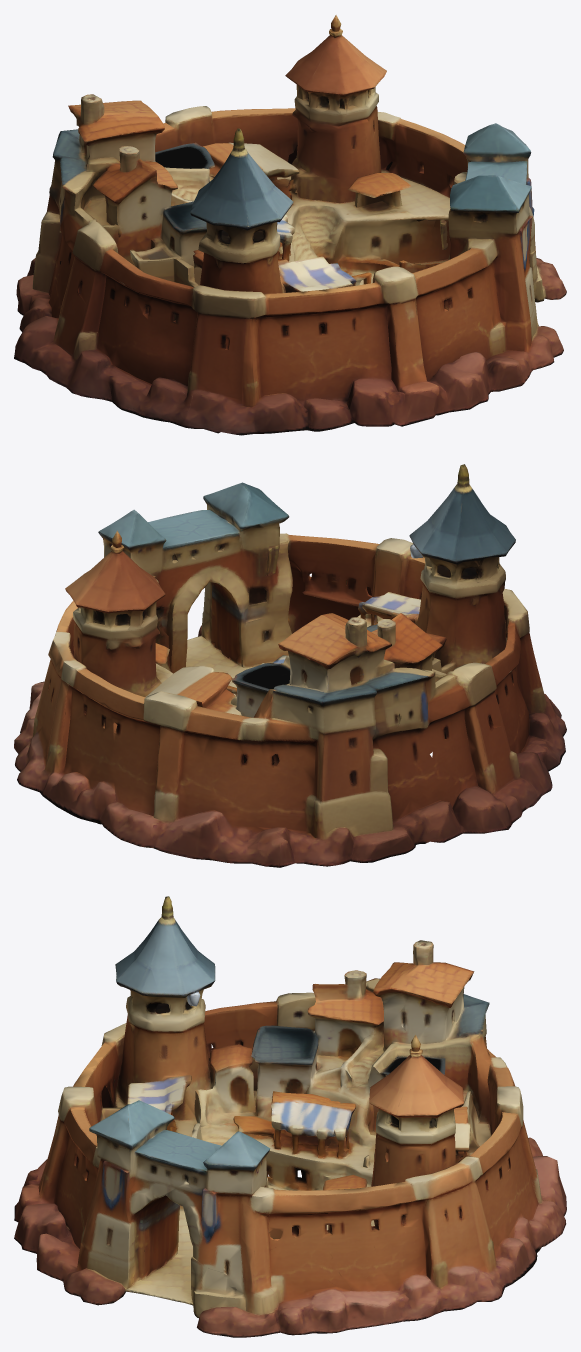
File: hero_rikarisu_town.glb
The picture shows the model from 3 angles, top to bottom: view 1: azimuth 30°, elevation 25°; view 2: azimuth 150°, elevation 25°; view 3: azimuth 270°, elevation 25°; orthographic projection.
Parts seen in each view (by area): view 1: hero_rikarisu_town; view 2: hero_rikarisu_town; view 3: hero_rikarisu_town.
Boxes of the visible parts, x1=… form: hero_rikarisu_town: x1=14, y1=15, x2=566, y2=435; hero_rikarisu_town: x1=14, y1=464, x2=566, y2=867; hero_rikarisu_town: x1=14, y1=896, x2=566, y2=1337.
Size of the model in its own units: 0.5 by 0.2586 by 0.4827.
1 material, 1 textured.
